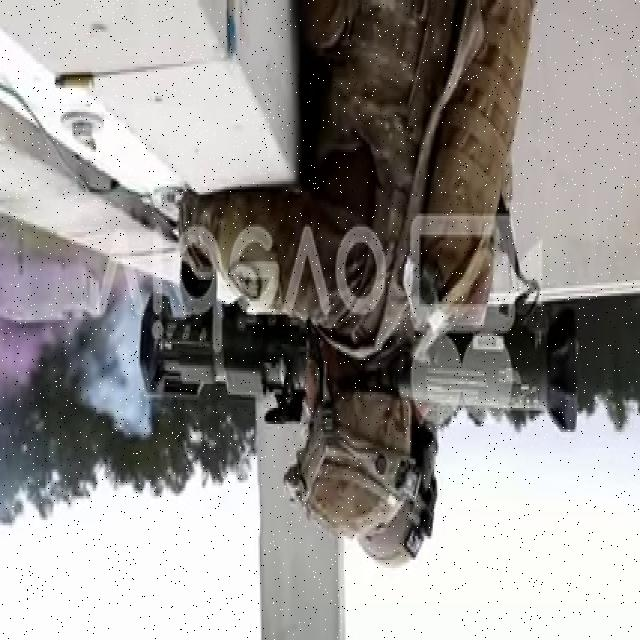bazooka: (137, 296, 592, 438)
